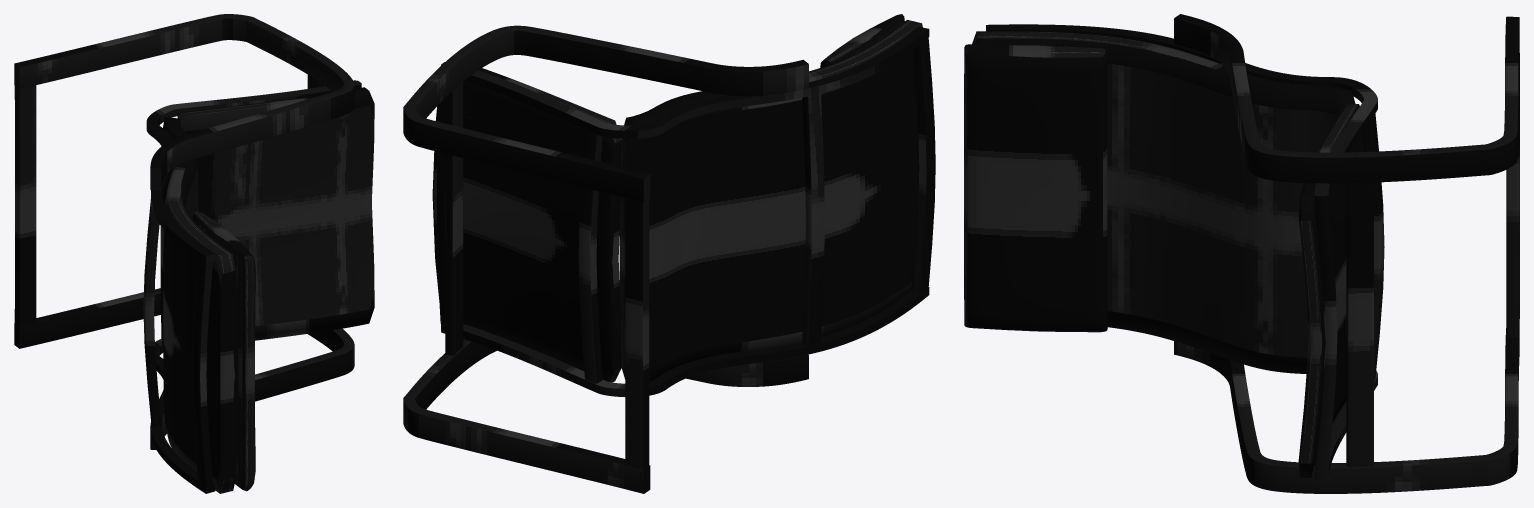
The model's file is armchair-cehzwd-0.obj.
3 renders of one model, left to right at view 1: azimuth 30°, elevation 25°; view 2: azimuth 150°, elevation 25°; view 3: azimuth 270°, elevation 25°, orthographic. The views are drawn at different scales.
Size of the model in its own units: 0.7974 by 0.6961 by 1.04.
